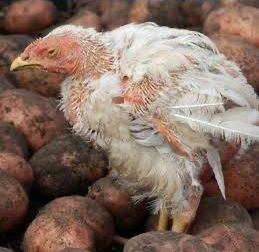Unhealthy: (12, 21, 251, 232)
